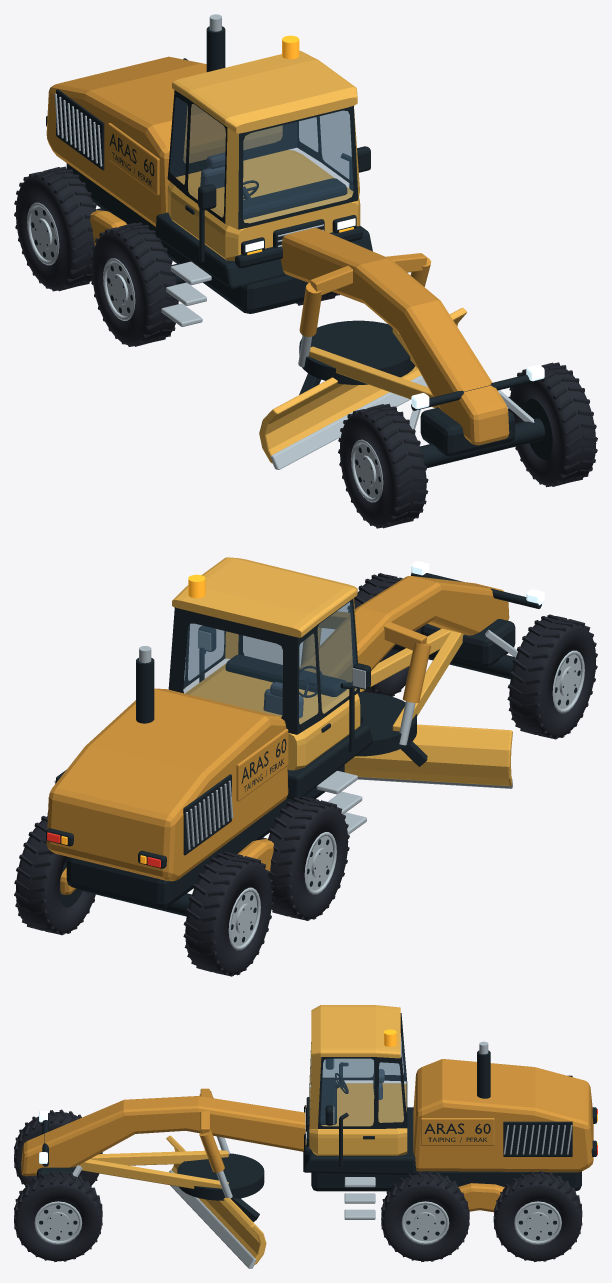
3 renders of one model, top to bottom at view 1: azimuth 30°, elevation 25°; view 2: azimuth 150°, elevation 25°; view 3: azimuth 270°, elevation 25°, orthographic. The views are drawn at different scales.
Visible parts, largest first — view 1: Taiping Road Grader; view 2: Taiping Road Grader; view 3: Taiping Road Grader.
Part boxes in pixels (x1,y1,x2,y2): Taiping Road Grader: (14, 14, 597, 528); Taiping Road Grader: (14, 557, 597, 976); Taiping Road Grader: (14, 1005, 597, 1268).
Bounding box in the file's own units: 3.1 × 3.32 × 8.3.
